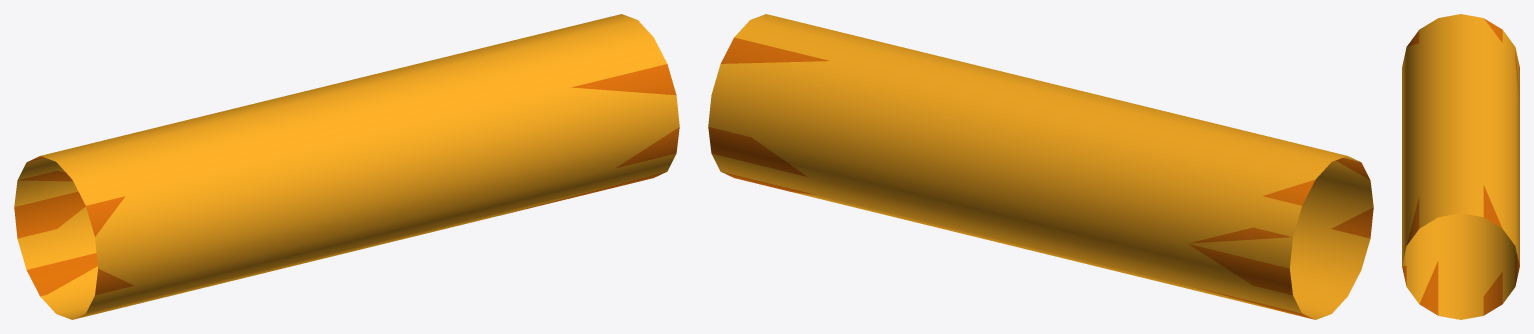
Rendered from Prop_Modular_Pipe_A_02.fbx.
3 views of the same model, side by side, from view 1: azimuth 30°, elevation 25°; view 2: azimuth 150°, elevation 25°; view 3: azimuth 270°, elevation 25° (orthographic). The views are drawn at different scales.
Parts seen in each view (by area): view 1: Prop_Modular_Pipe_A_02; view 2: Prop_Modular_Pipe_A_02; view 3: Prop_Modular_Pipe_A_02.
Part boxes in pixels (bbox=[...]): Prop_Modular_Pipe_A_02: bbox=[14, 14, 679, 319]; Prop_Modular_Pipe_A_02: bbox=[708, 14, 1373, 319]; Prop_Modular_Pipe_A_02: bbox=[1402, 14, 1519, 319].
Size of the model in its own units: 200 by 50 by 50.
